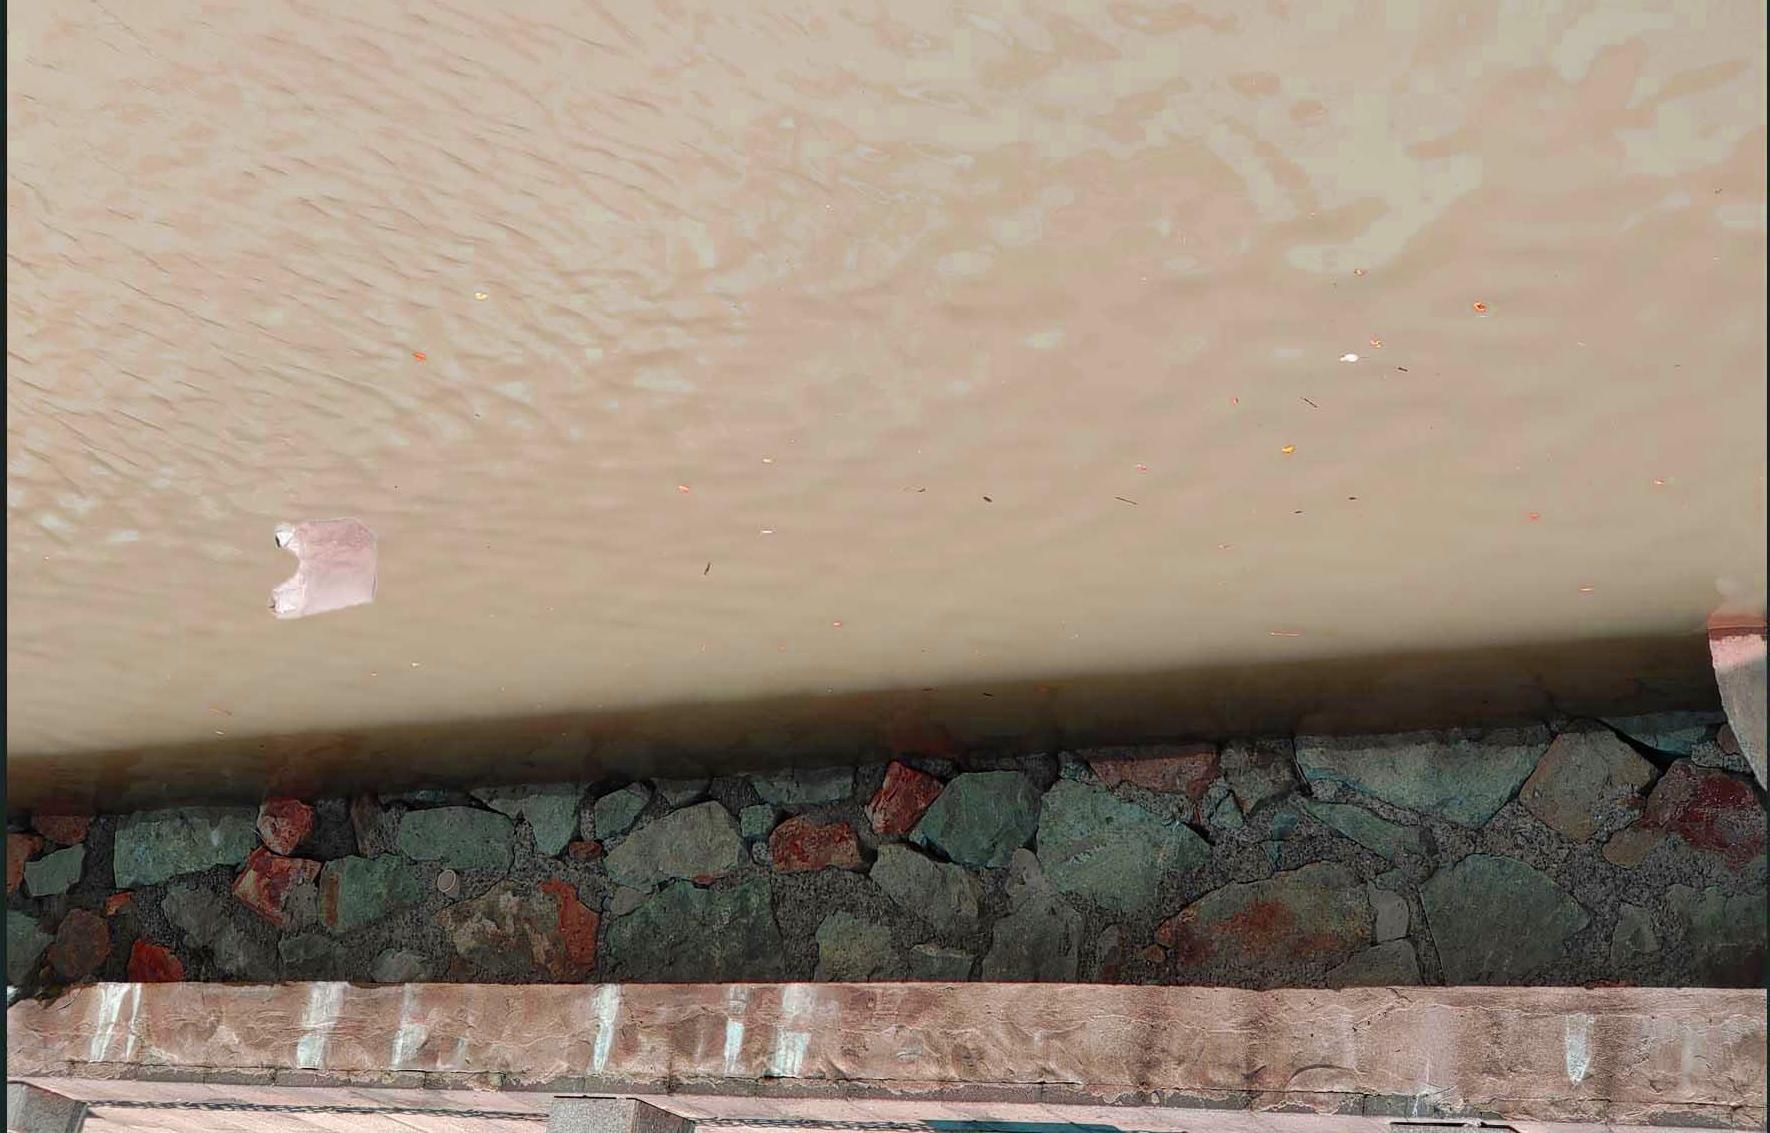Trash: (253, 512, 395, 625)
